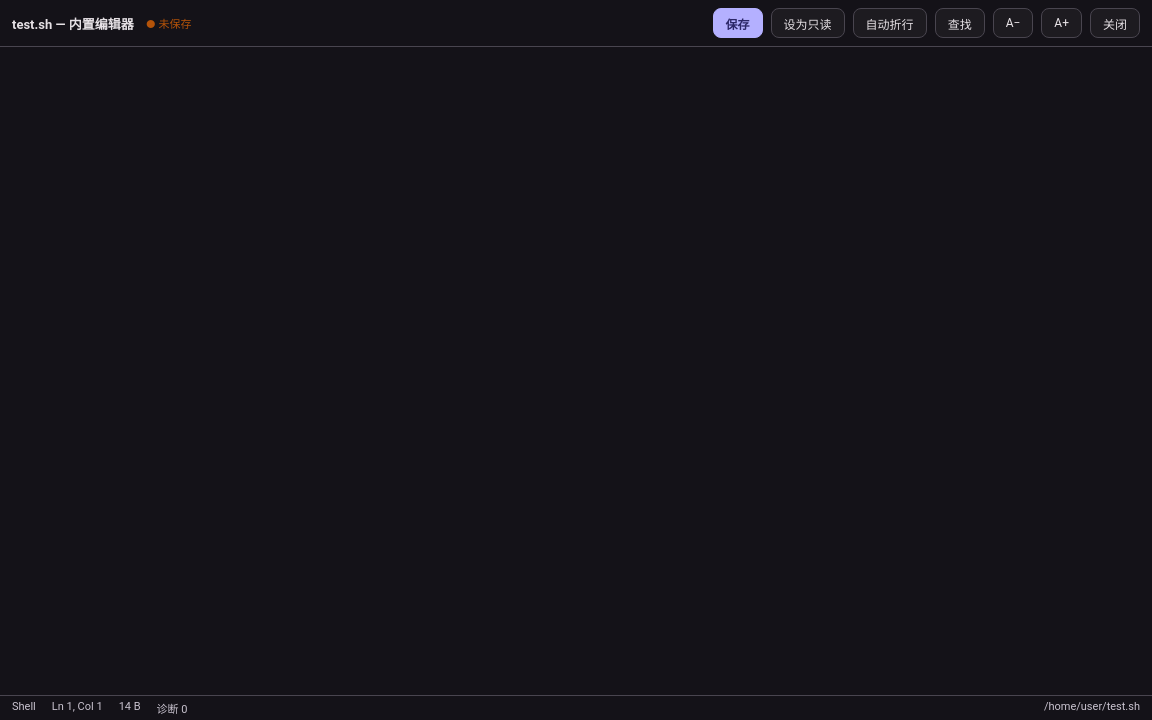
Scenario: EditorWindow 编辑与保存 › 保存成功后清脏、提示已保存，并关闭窗口（仅一次上传）
Step 1. Click the button "保存" → point(738, 23), box [713,8,763,38]
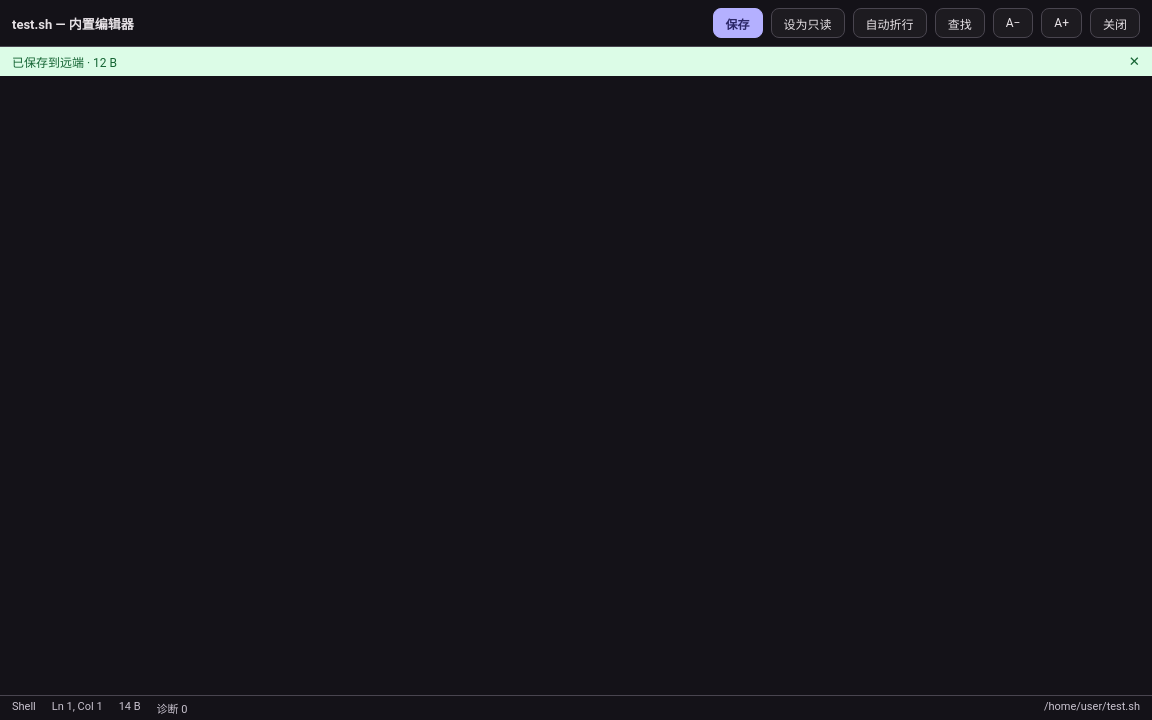
Expected: the text "已保存到远端 · 12 B" is shown, [12,56,117,70]
Expected: the text "● 未保存" is gone
